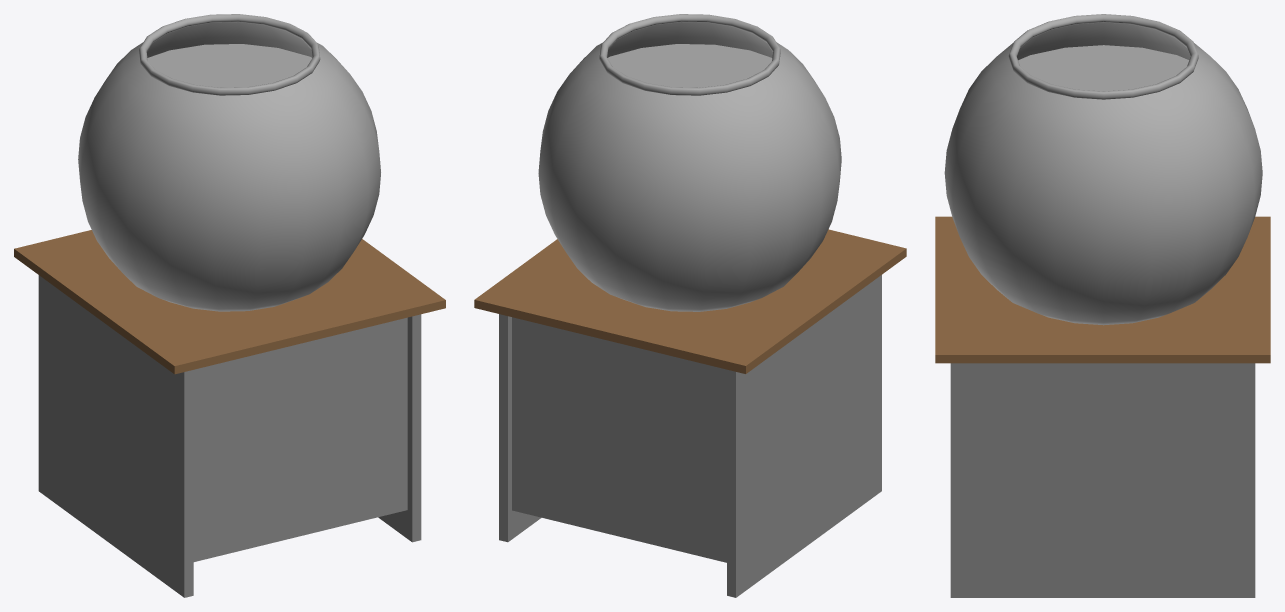
Rendered from Prop_Fishbowl.fbx.
3 renders of one model, left to right at view 1: azimuth 30°, elevation 25°; view 2: azimuth 150°, elevation 25°; view 3: azimuth 270°, elevation 25°, orthographic. The views are drawn at different scales.
Parts seen in each view (by area): view 1: Table_Fish_Bowl, Bowl_Glass, Water; view 2: Table_Fish_Bowl, Bowl_Glass, Water; view 3: Table_Fish_Bowl, Bowl_Glass, Water.
Boxes of the visible parts, <box> form: Table_Fish_Bowl: <box>14,230,445,597</box>; Bowl_Glass: <box>78,14,380,311</box>; Water: <box>147,44,312,87</box>; Table_Fish_Bowl: <box>474,229,906,597</box>; Bowl_Glass: <box>538,14,841,311</box>; Water: <box>607,44,772,87</box>; Table_Fish_Bowl: <box>935,216,1270,597</box>; Bowl_Glass: <box>944,14,1262,325</box>; Water: <box>1018,45,1189,91</box>.
Bounding box in the file's own units: 40 × 65.43 × 41.
